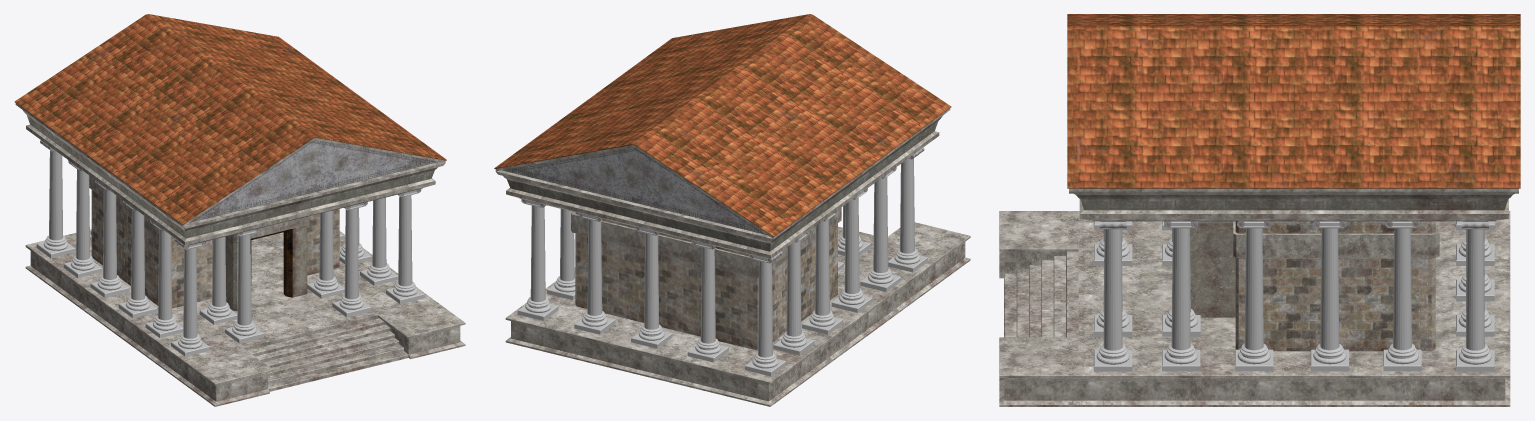
File: Ancient_Assets_Pack.fbx
3 renders of one model, left to right at view 1: azimuth 30°, elevation 25°; view 2: azimuth 150°, elevation 25°; view 3: azimuth 270°, elevation 25°, orthographic. The views are drawn at different scales.
Visible parts, largest first — view 1: Main_Temple; view 2: Main_Temple; view 3: Main_Temple.
Part boxes in pixels (<box>): Main_Temple: <box>14,14,465,406</box>; Main_Temple: <box>494,14,970,406</box>; Main_Temple: <box>999,14,1520,406</box>.
Size of the model in its own units: 1967 by 1567 by 2491.
